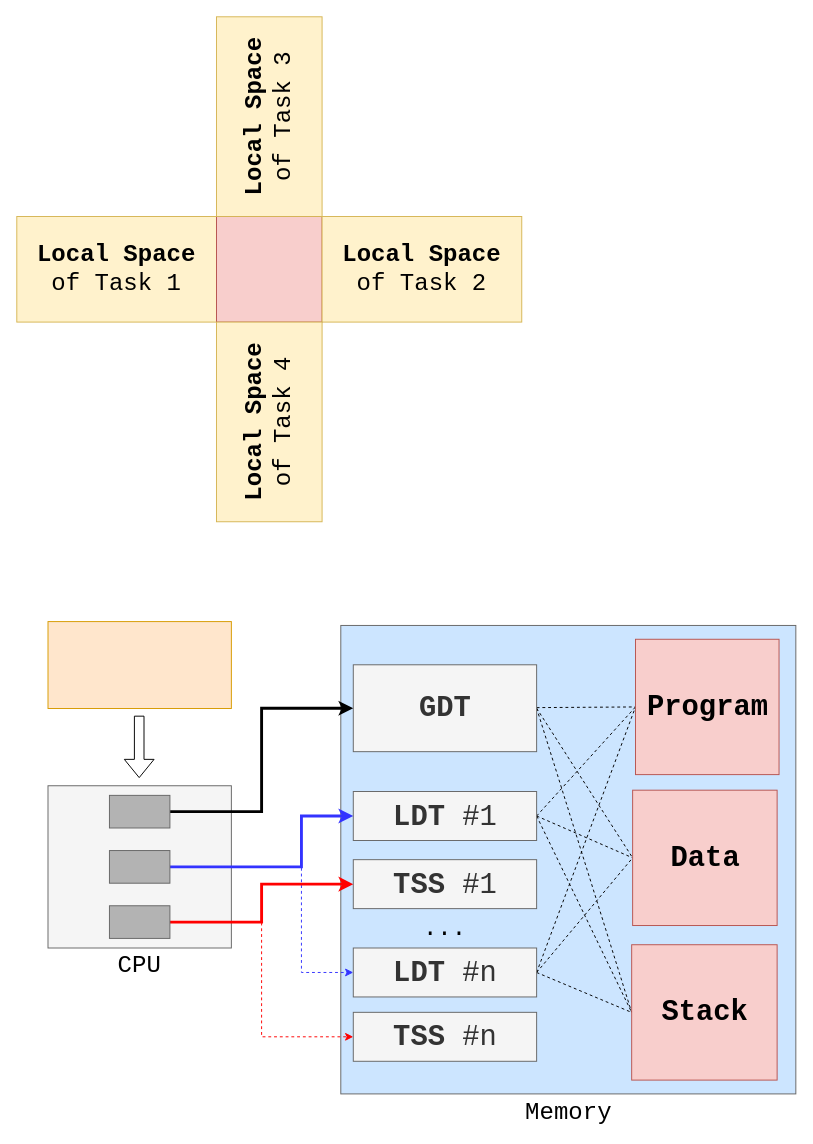
Some shapes in this 813 by 1144 pixel diagram are drawn without their labels. Here are the shapes that lost their labels. From the top down, the centre of each, then its label:
point 269,269: Global Space
point 139,664: Task #1
point 139,811: GDTR
point 139,866: LDTR
point 139,921: TR
